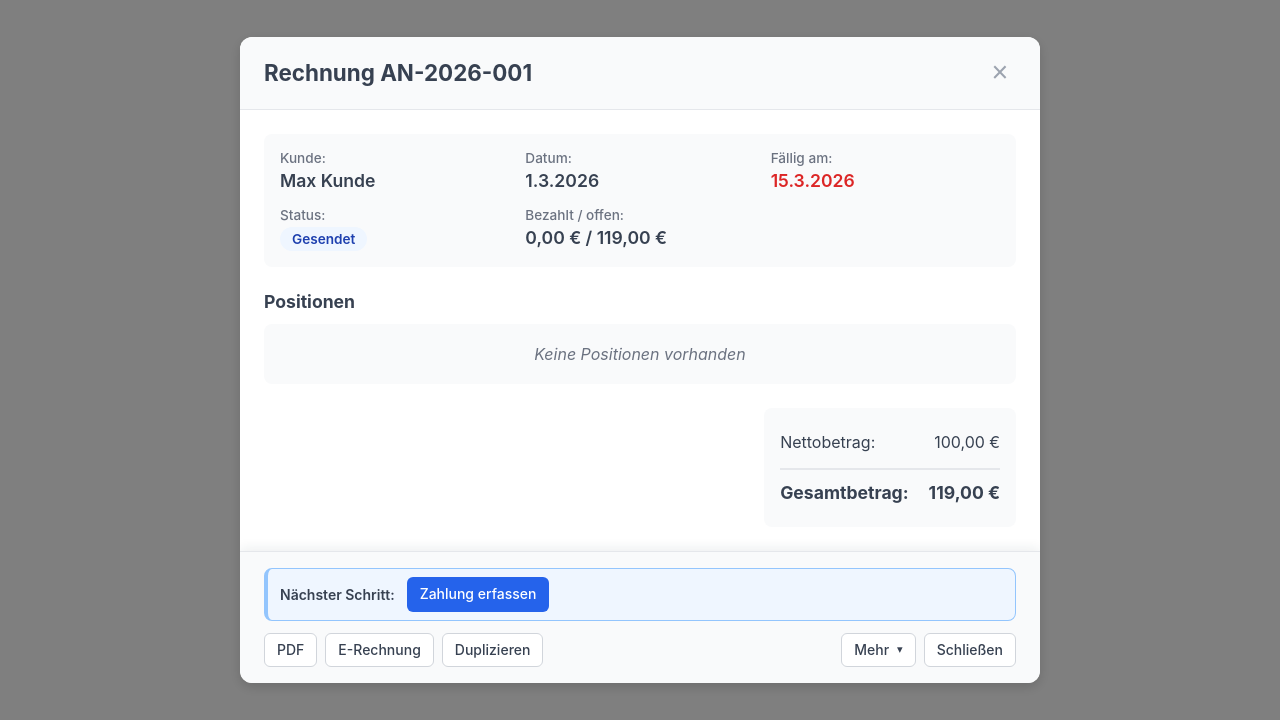
Scenario: DocumentViewModal — action bar of invoices › opens the duplicate form in place of the bar and keeps it open when duplicating fails
This screenshot has width=1280, height=720.
Click the button "Duplizieren".
click(493, 650)  # box [442,632,543,667]
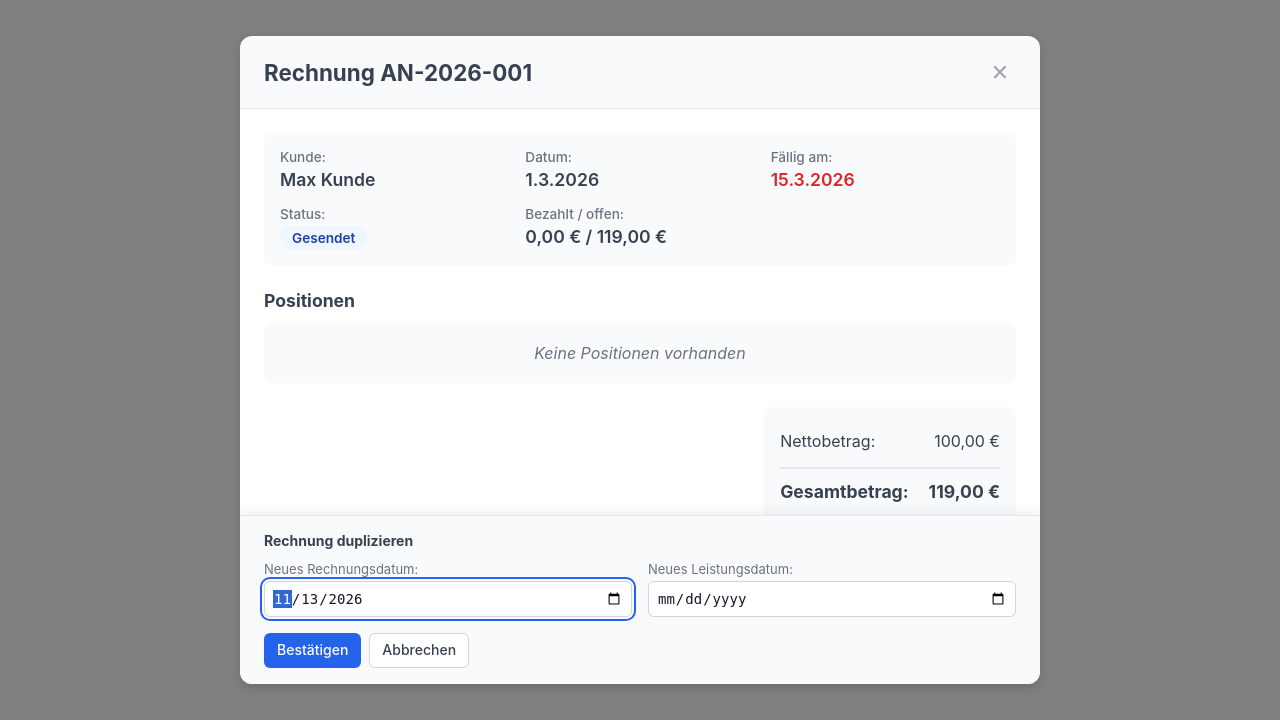
Expected: the heading "Rechnung duplizieren" is shown, [264,532,413,549]
Click the button "Bestätigen".
click(313, 651)  # box [264,633,361,668]
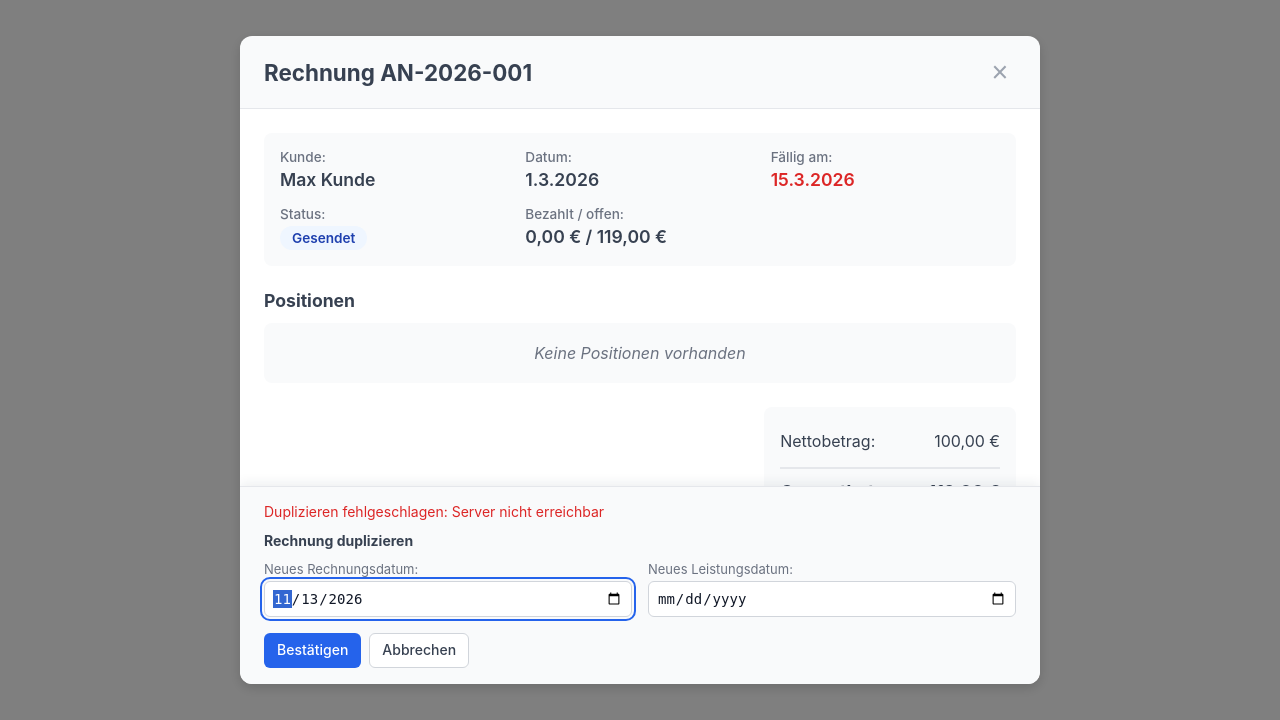
Expected: the element with class "invoice-content" is shown, [240,109,1040,550]
Result: the element with class "clone-form" is shown at [264,532,1016,668]
Result: the message with class "action-error" reads "Duplizieren fehlgeschlagen: Server nicht erreichbar" at [264,503,604,520]
